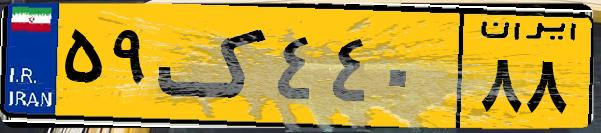0: (385, 28, 445, 110)
4: (270, 28, 330, 110), (330, 28, 385, 110)
5: (57, 26, 110, 100)
8: (475, 38, 525, 113), (525, 38, 570, 115)
9: (110, 28, 158, 98)
ک: (158, 12, 270, 120)
